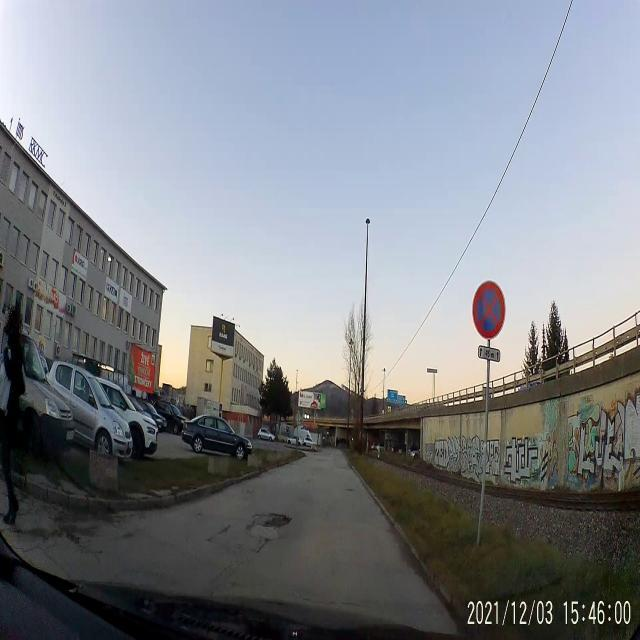Pothole: (250, 510, 292, 534)
